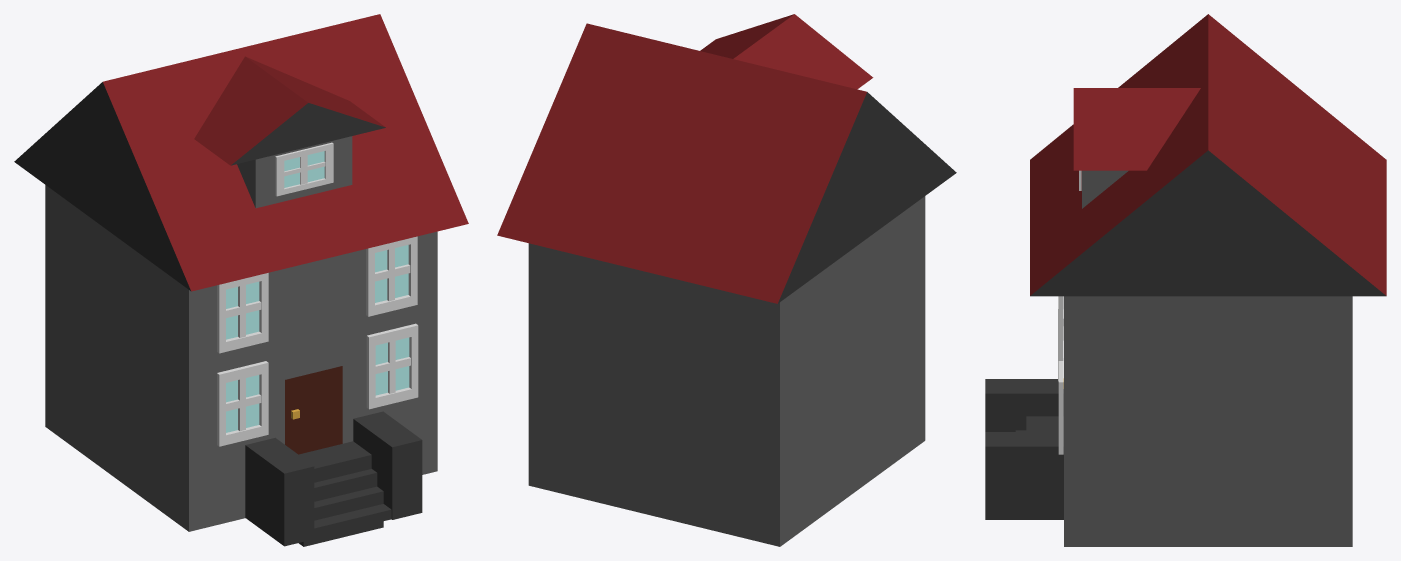
Rendered from HOUSINGTON.fbx.
3 renders of one model, left to right at view 1: azimuth 30°, elevation 25°; view 2: azimuth 150°, elevation 25°; view 3: azimuth 270°, elevation 25°, orthographic.
Visible parts, largest first — view 1: Cube.001; view 2: Cube.001; view 3: Cube.001.
Part boxes in pixels (box(x1,y1,x2,y2)): Cube.001: box(14, 14, 468, 546); Cube.001: box(497, 14, 956, 546); Cube.001: box(985, 14, 1386, 546).
Size of the model in its own units: 1845 by 2634 by 2297.
